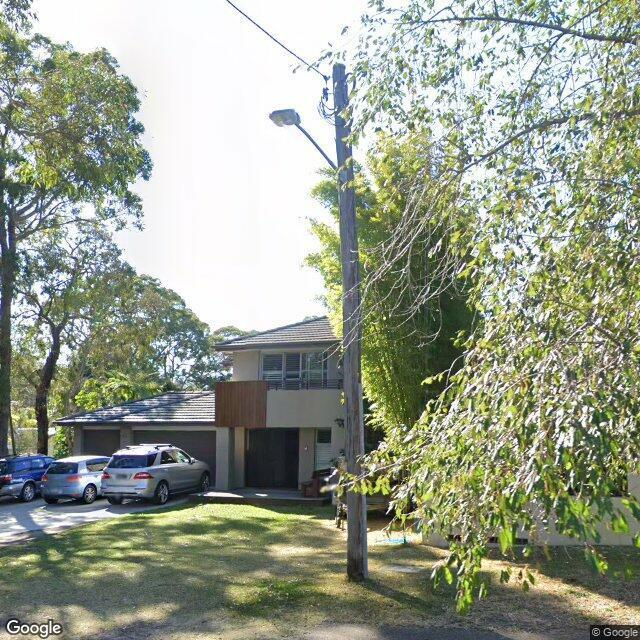streetlight: (267, 110, 339, 183)
timber-pole: (334, 64, 369, 585)
